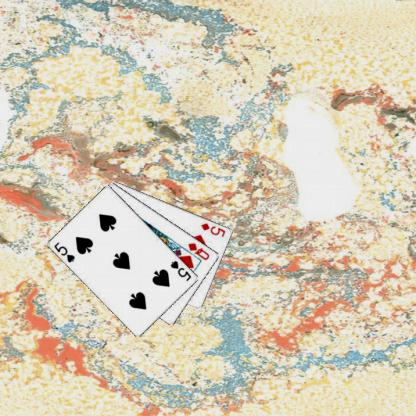5D: (198, 220, 226, 238)
5S: (168, 258, 193, 282), (52, 239, 76, 264)
QD: (186, 240, 211, 261)
